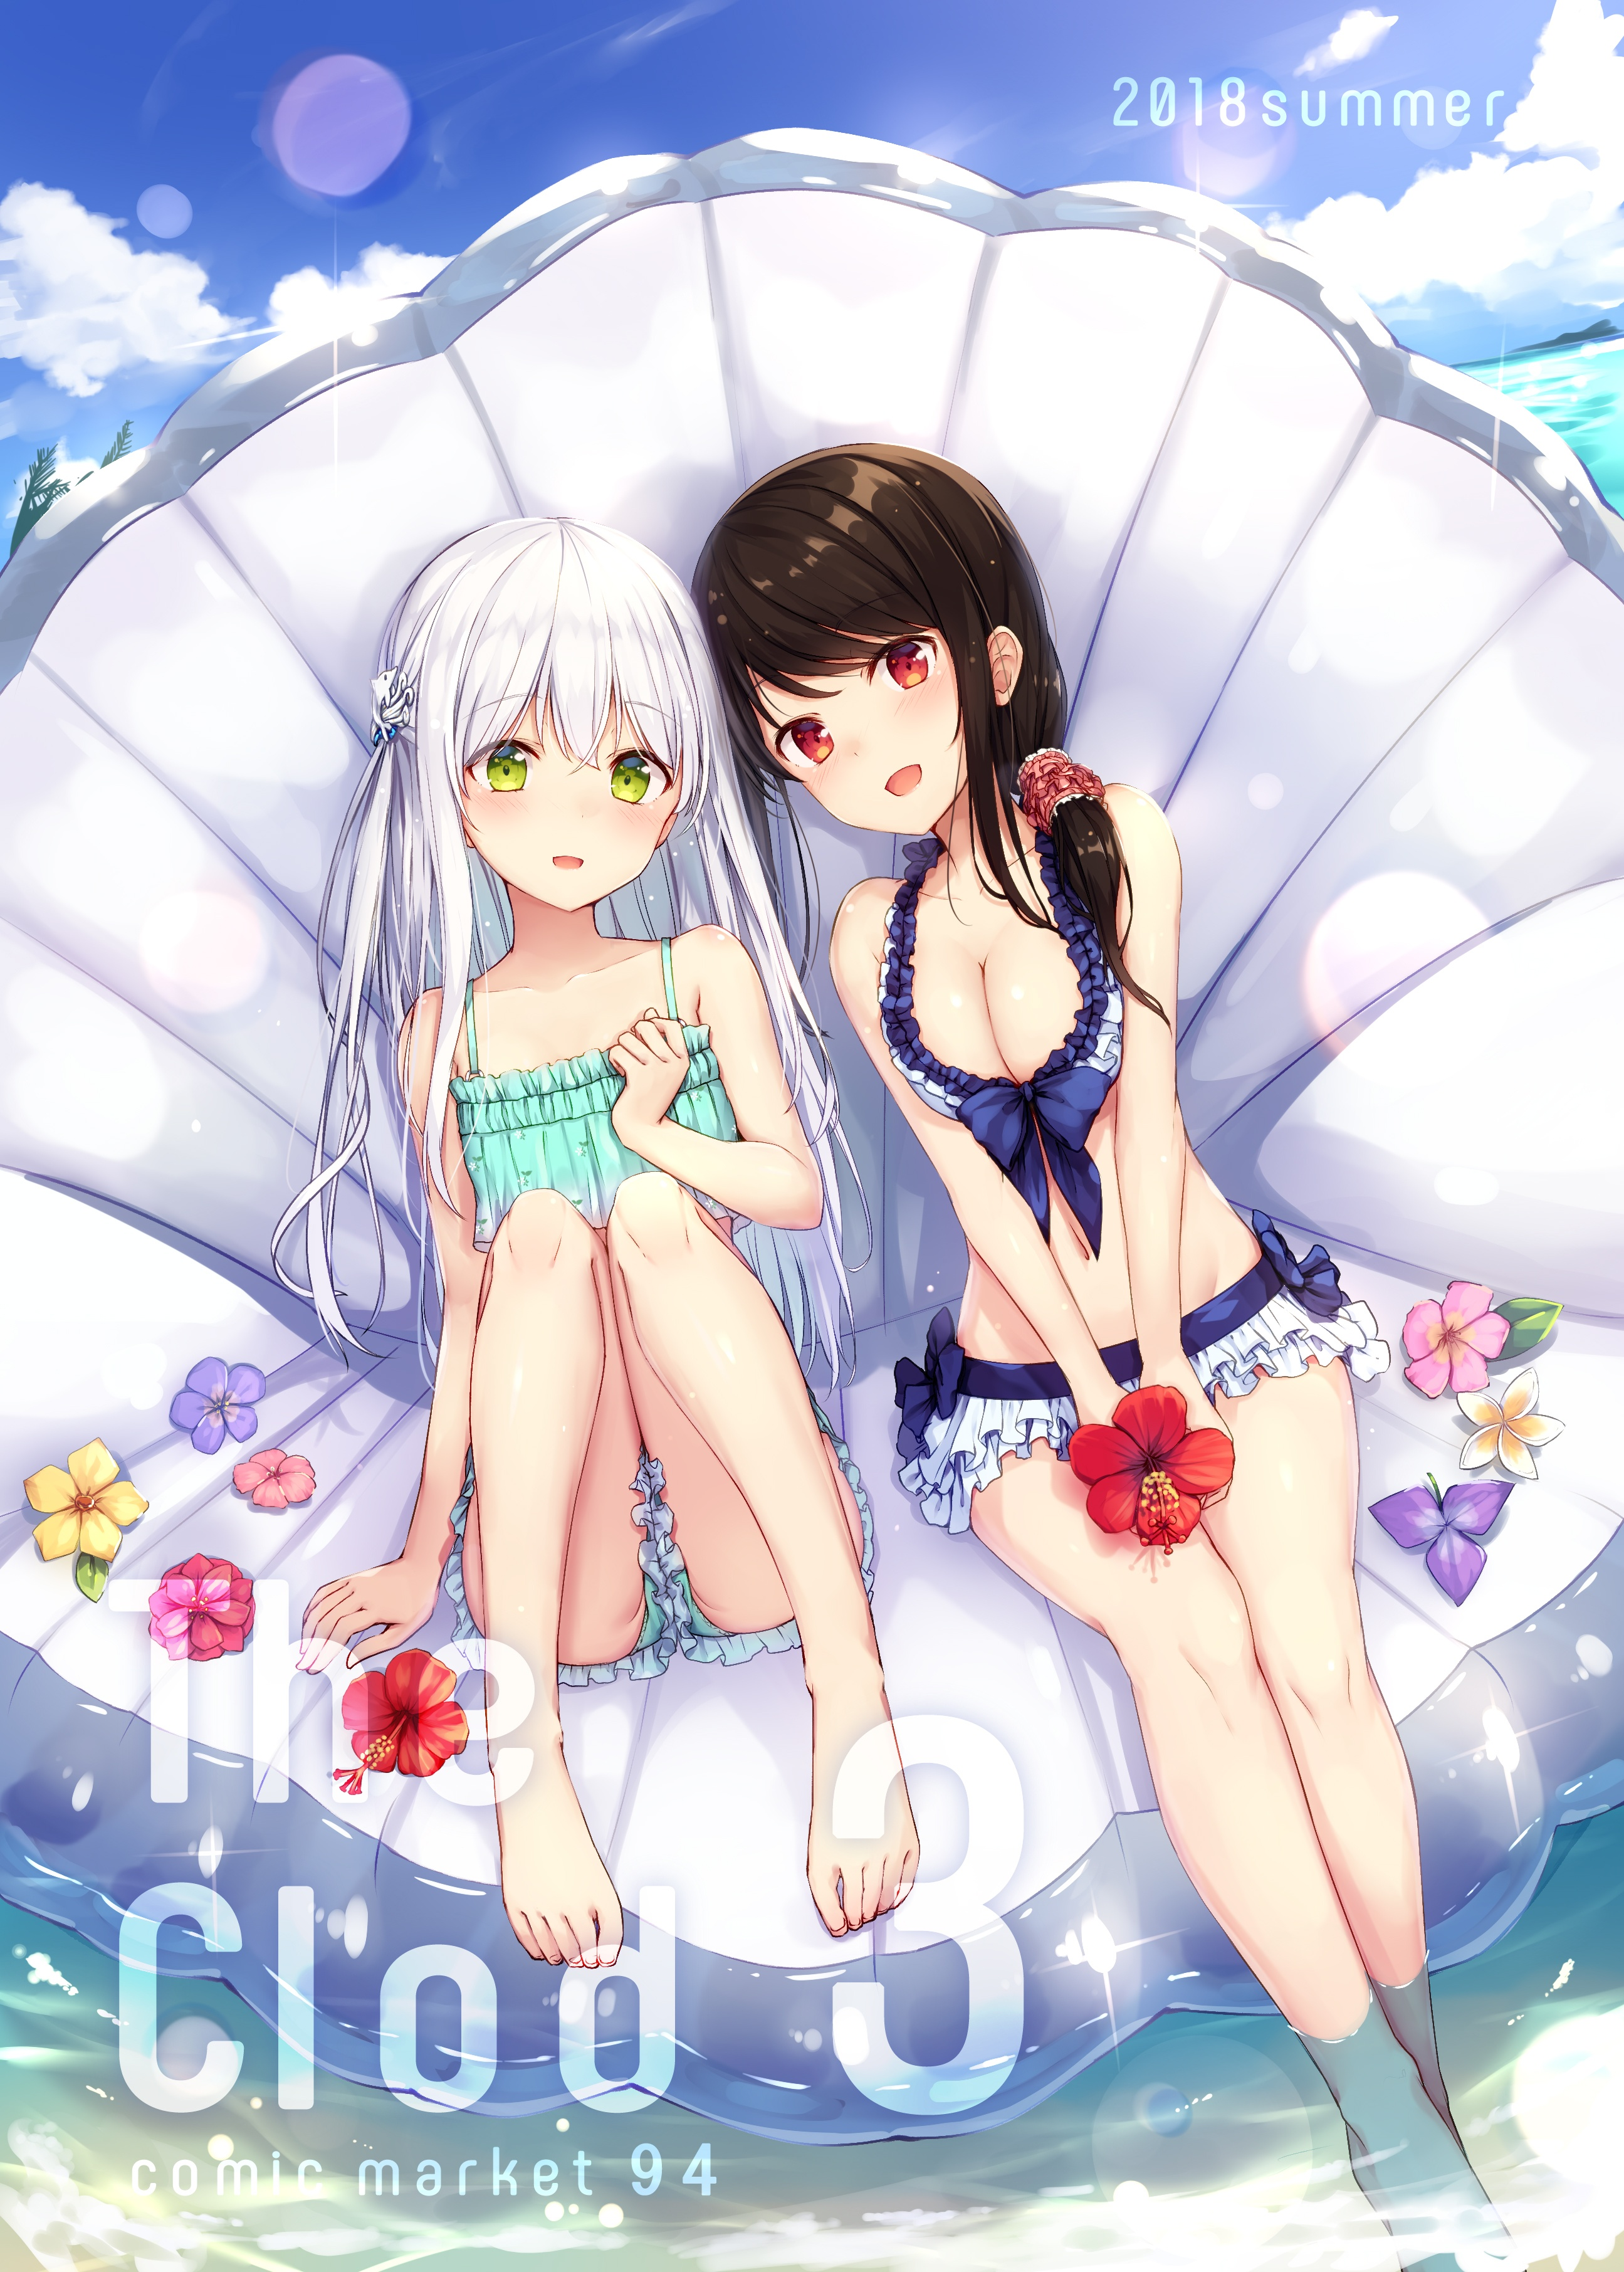纸片人正脸: (377, 500, 740, 923), (690, 441, 1061, 839)
